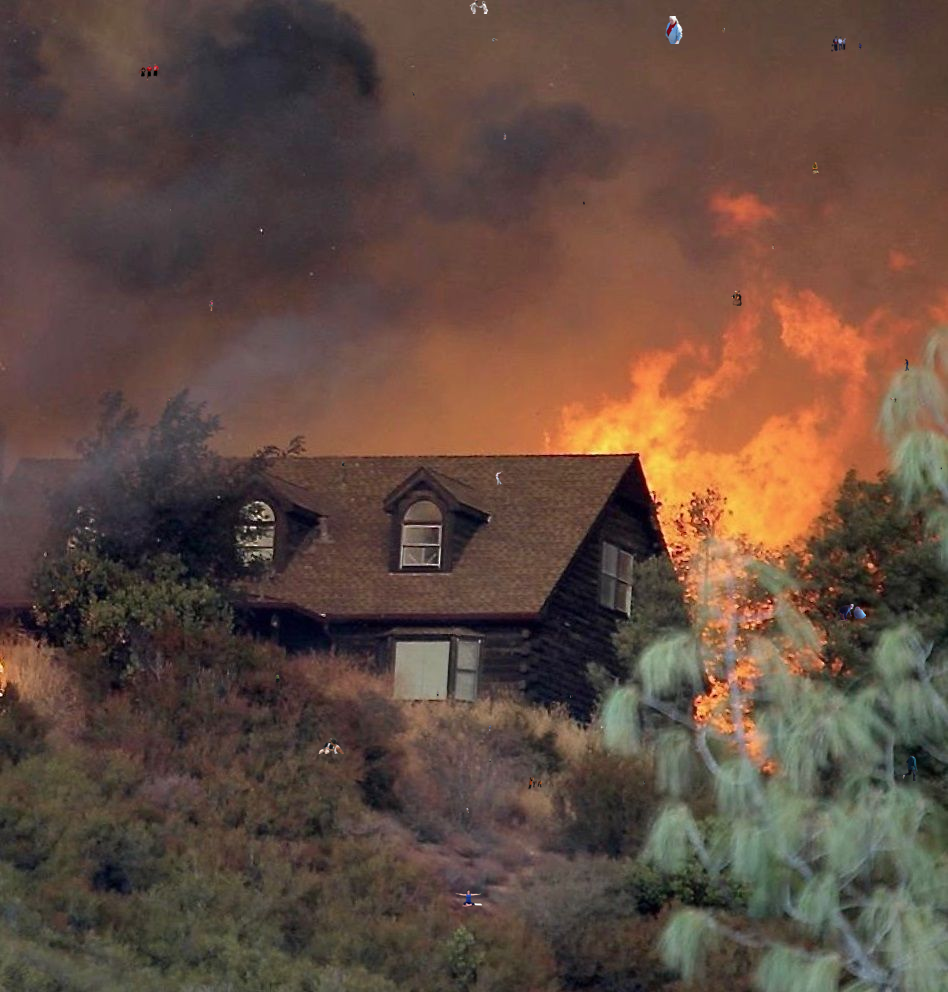Human: (836, 604, 866, 621), (665, 16, 683, 44), (131, 63, 159, 81), (455, 889, 483, 907), (831, 36, 862, 52), (315, 738, 345, 754), (902, 754, 918, 781), (468, 0, 490, 14), (528, 777, 542, 791), (731, 290, 742, 306), (495, 471, 504, 485), (404, 91, 416, 101), (812, 162, 819, 174), (336, 459, 346, 466), (904, 359, 909, 371), (275, 673, 280, 683), (209, 300, 213, 311), (492, 38, 499, 44), (890, 397, 897, 403), (503, 133, 507, 140), (933, 467, 942, 470), (436, 690, 439, 698), (721, 28, 725, 33), (489, 725, 492, 731), (466, 807, 469, 813), (772, 244, 775, 249), (190, 134, 193, 138), (643, 780, 645, 786), (570, 695, 573, 698), (583, 201, 585, 205), (489, 759, 491, 762), (168, 399, 170, 402), (821, 791, 825, 792), (170, 209, 171, 212)
